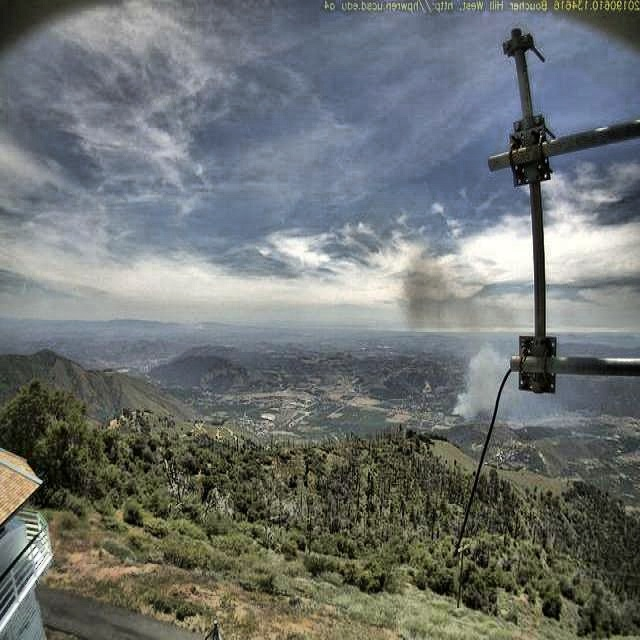smoke: (398, 233, 527, 424)
